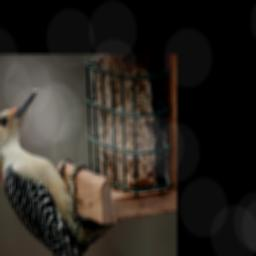Woodpecker: (0, 88, 115, 256)
